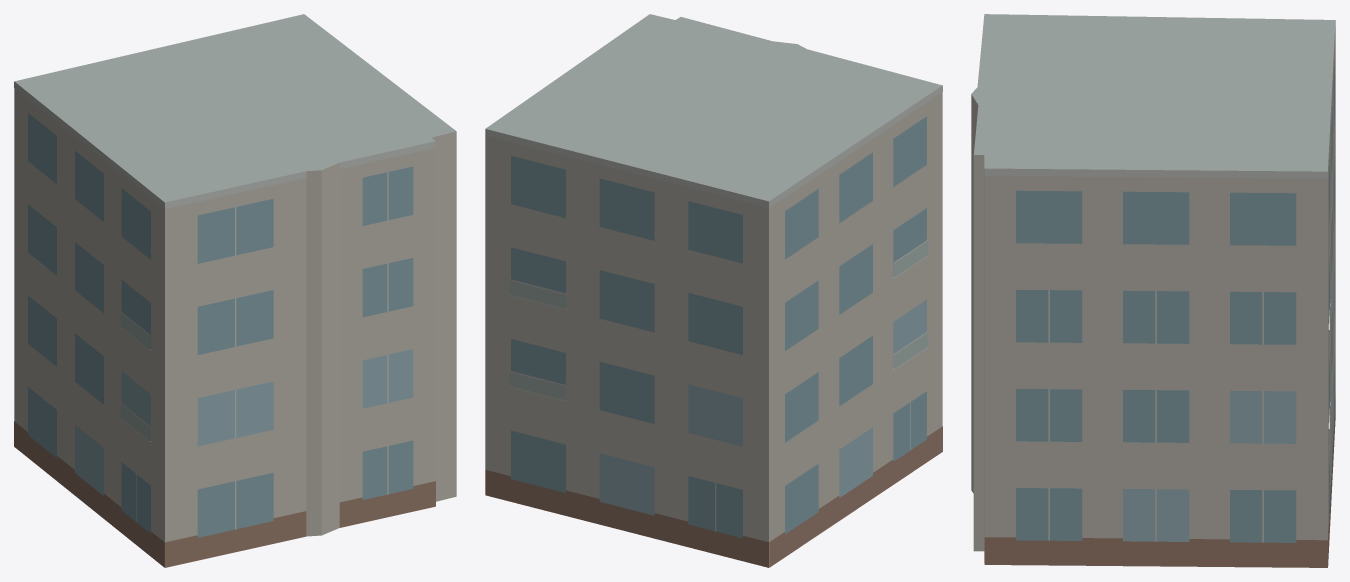
The model's file is survey-upis-32634117.glb.
3 views of the same model, side by side, from view 1: azimuth 30°, elevation 25°; view 2: azimuth 150°, elevation 25°; view 3: azimuth 270°, elevation 25° (orthographic). The views are drawn at different scales.
Visible parts, largest first — view 1: survey-upis-32634117.tmp; view 2: survey-upis-32634117.tmp; view 3: survey-upis-32634117.tmp.
Boxes of the visible parts, left/top/right/bottom form: survey-upis-32634117.tmp: left=14, top=14, right=456, bottom=567; survey-upis-32634117.tmp: left=485, top=14, right=942, bottom=567; survey-upis-32634117.tmp: left=971, top=14, right=1335, bottom=567.
Size of the model in its own units: 11.52 by 13.5 by 11.25.
